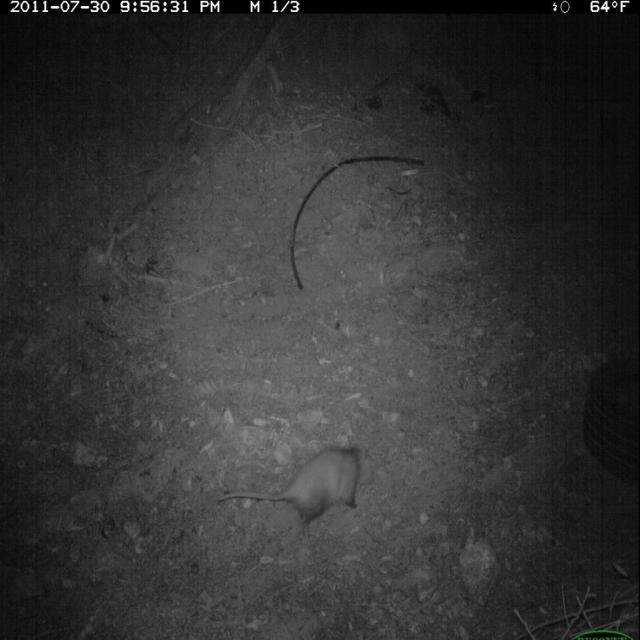opossum: (213, 443, 385, 535)
